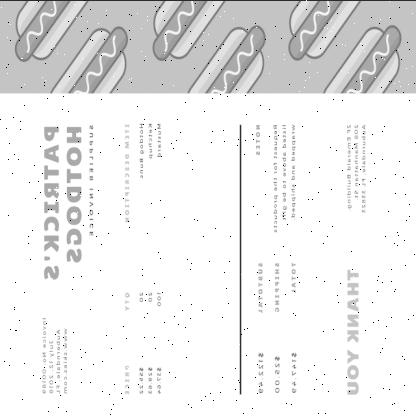Paragraph: (40, 120, 97, 284), (254, 258, 300, 398), (254, 119, 298, 235), (38, 314, 71, 399), (344, 263, 362, 398), (344, 119, 368, 216)
Table: (121, 116, 166, 402)
